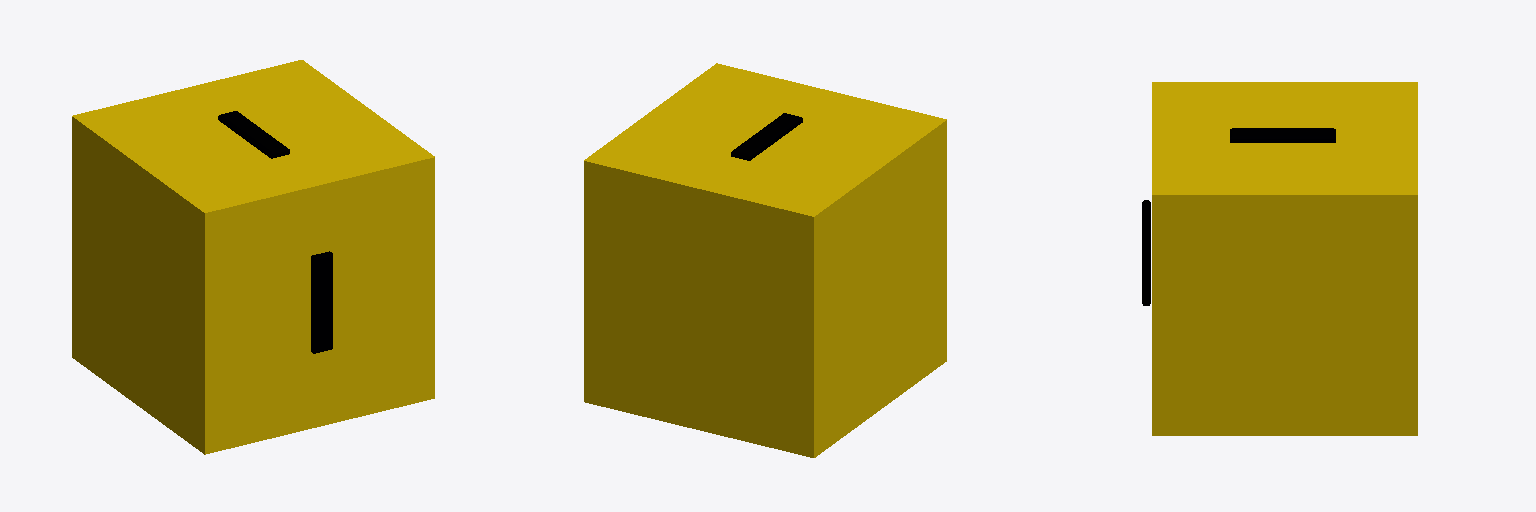
3 views of the same model, side by side, from view 1: azimuth 30°, elevation 25°; view 2: azimuth 150°, elevation 25°; view 3: azimuth 270°, elevation 25° (orthographic).
Visible parts, largest first — view 1: Cube, Text.001_CUText.001, Text_CUText; view 2: Cube, Text_CUText; view 3: Cube, Text_CUText, Text.001_CUText.001.
Part boxes in pixels (bbox=[...]): Cube: bbox=[72, 60, 434, 454]; Text.001_CUText.001: bbox=[311, 251, 332, 353]; Text_CUText: bbox=[218, 111, 289, 158]; Cube: bbox=[584, 63, 946, 457]; Text_CUText: bbox=[731, 113, 802, 160]; Cube: bbox=[1152, 82, 1417, 435]; Text_CUText: bbox=[1230, 128, 1335, 142]; Text.001_CUText.001: bbox=[1142, 200, 1150, 305].
Bounding box in the file's own units: 2 × 2.05 × 2.07.